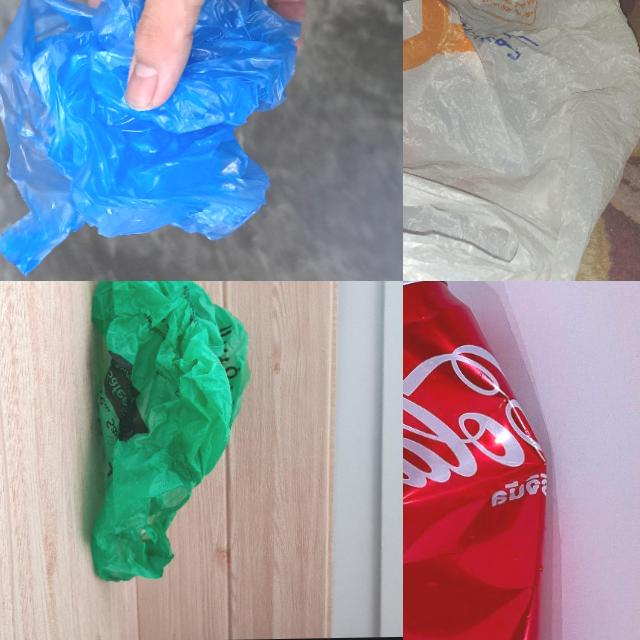lata: (403, 281, 553, 640)
sacola plástica: (0, 0, 295, 273), (403, 0, 640, 281), (78, 281, 251, 585)
